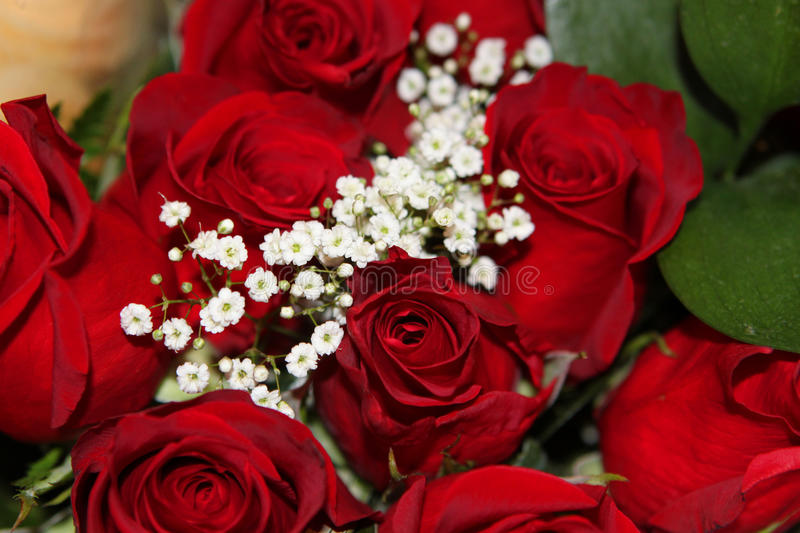RedRose: (475, 61, 656, 354), (0, 164, 192, 419), (339, 270, 544, 476), (66, 388, 379, 521), (113, 82, 350, 248), (601, 322, 797, 521), (399, 457, 651, 529), (197, 6, 390, 83)
